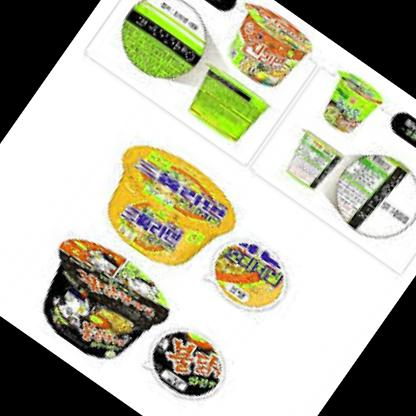Ramen: (22, 224, 186, 382), (80, 128, 241, 284), (215, 0, 321, 100), (177, 56, 280, 153), (265, 114, 355, 204), (312, 64, 386, 141)
